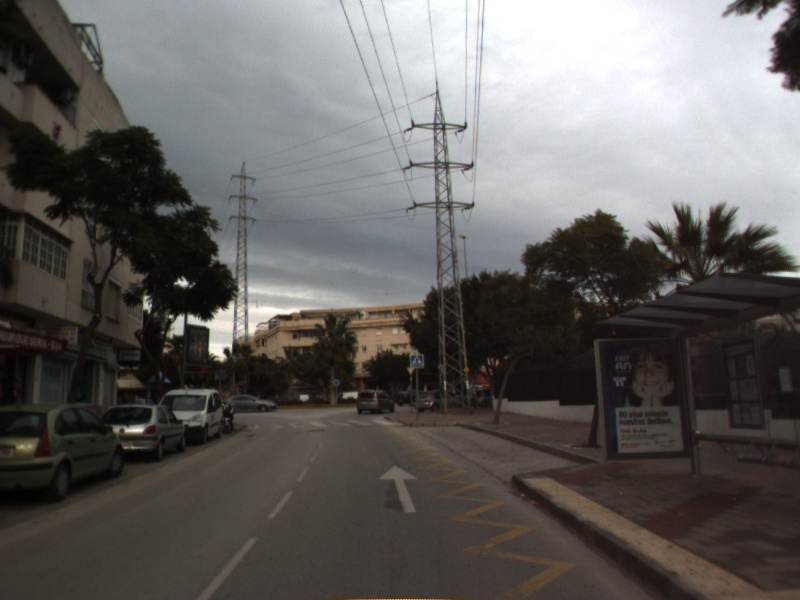STRAIGHT: (377, 463, 420, 515)
